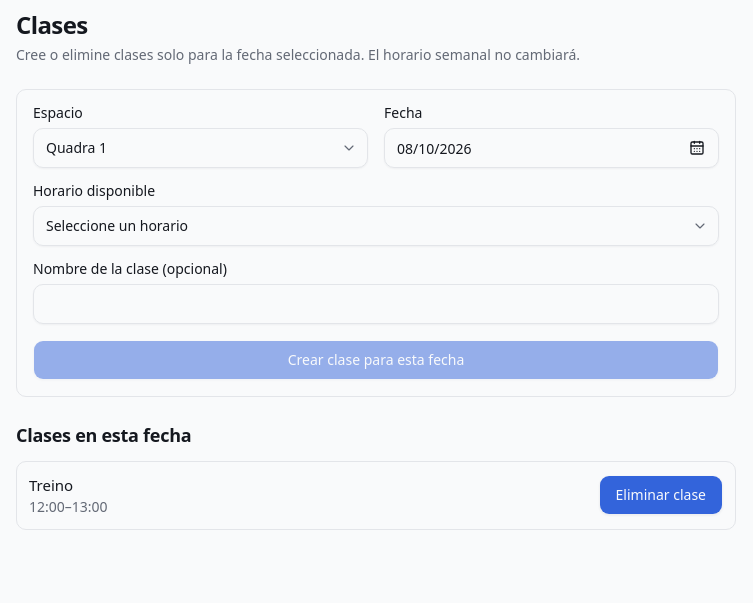
TeacherLessonsPage › explains an out-of-range date in es and blocks lesson creation
Replace the text in the field labelled "Fecha" with "07/10/2026" at (552,148), box left=384, top=128, right=719, bottom=168
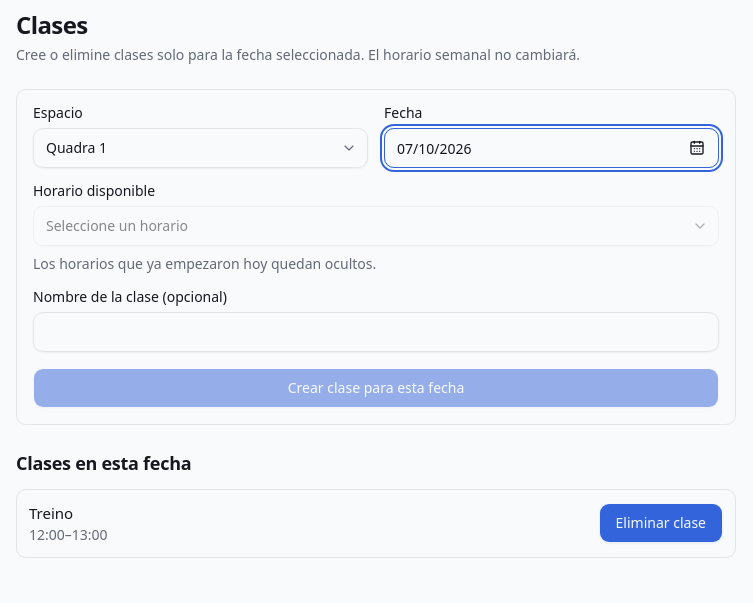
Press Tab
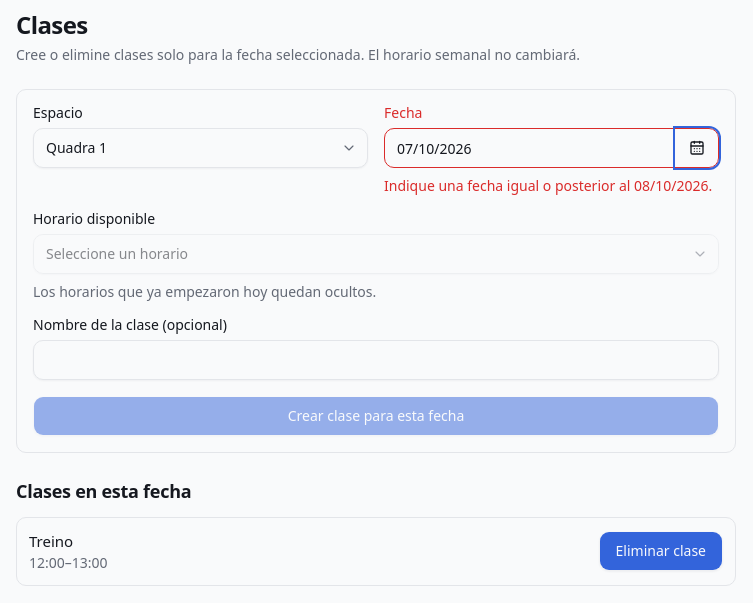
Expected: the button "Crear clase para esta fecha" is disabled, left=33, top=396, right=719, bottom=436
Result: the text "Indique una fecha igual o posterior al 08/10/2026." is shown at left=384, top=176, right=719, bottom=196
